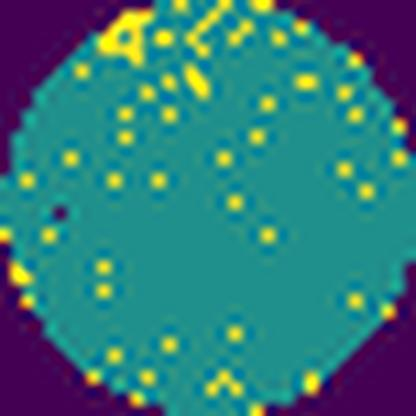Edge-Loc: (96, 9, 160, 67)
